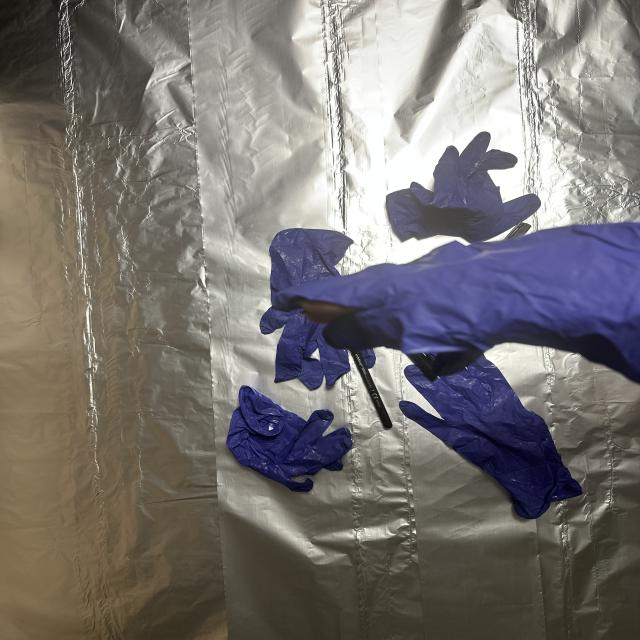glove_not_fitted: (297, 225, 640, 361)
